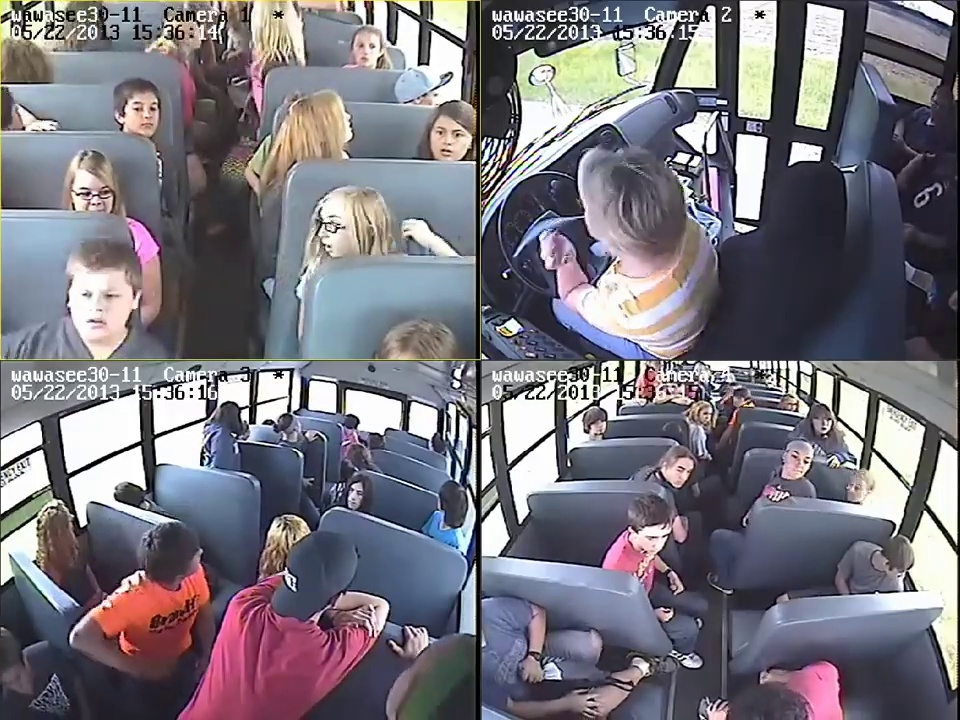face: (75, 280, 123, 332), (71, 174, 113, 211), (434, 114, 469, 158), (315, 211, 347, 256), (124, 95, 158, 132), (641, 522, 671, 554), (668, 457, 695, 488), (355, 33, 379, 65), (787, 445, 809, 476), (813, 408, 835, 434), (342, 485, 364, 509), (590, 414, 607, 432), (697, 405, 711, 423), (784, 395, 797, 411)
